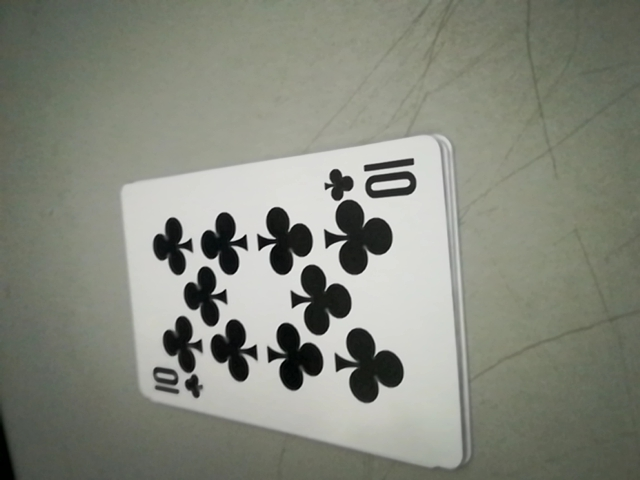mh 10: (321, 153, 428, 205), (145, 364, 206, 405)
